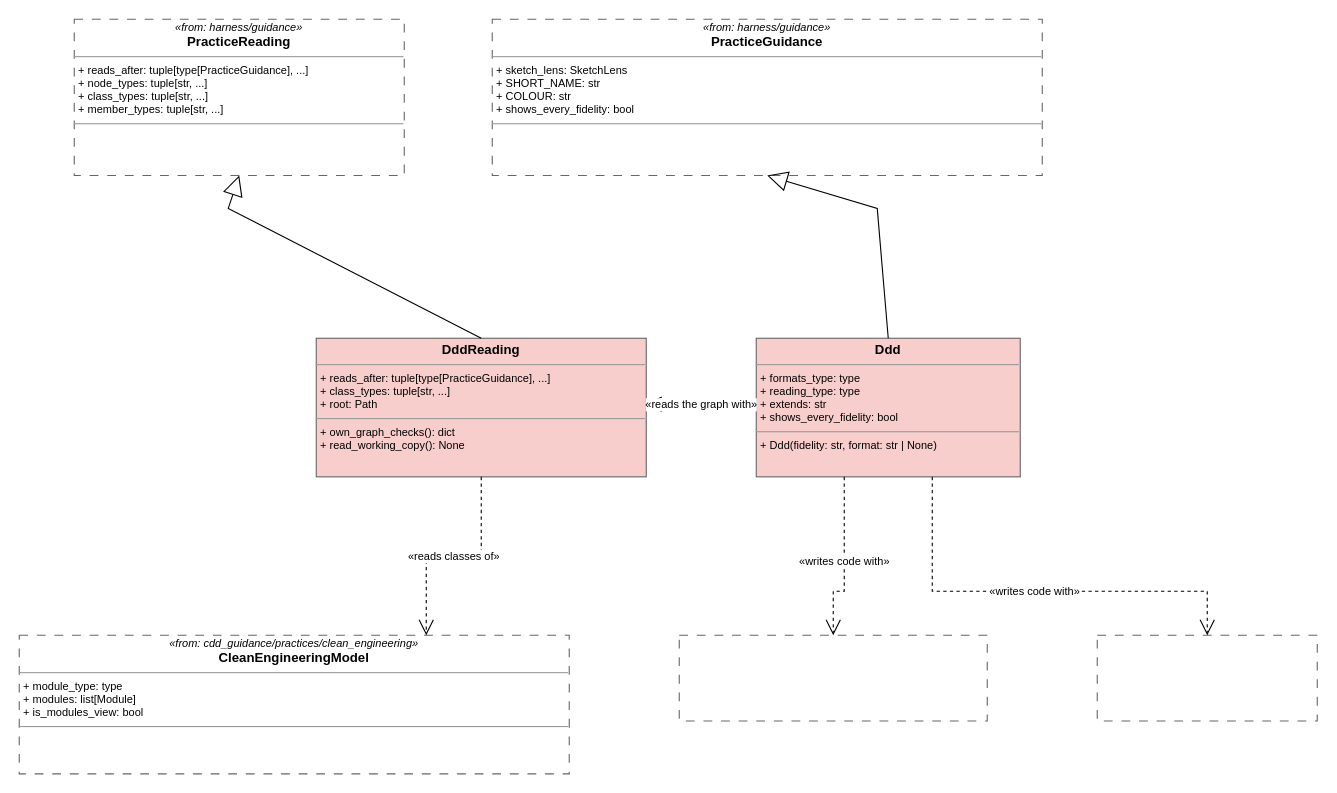
Image size: 1337x793. Some labels were removed from this diagram. Each missing label, with the centre of its shape:
«from: cdd_guidance/practices/clean_engineering» PythonCleanEngineeringModel: (x=832, y=677)
«from: cdd_guidance/practices/clean_engineering» TypeScriptCleanEngineeringModel: (x=1206, y=677)
